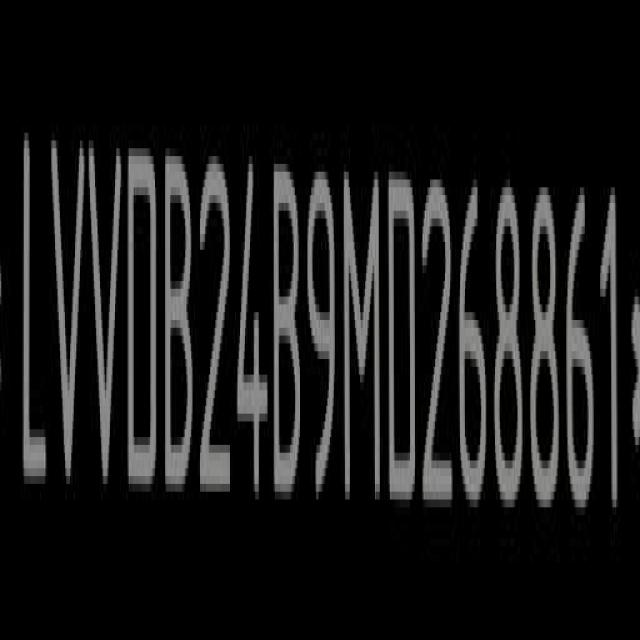1: (602, 181, 622, 518)
2: (200, 157, 234, 505), (422, 177, 455, 511)
4: (235, 157, 268, 503)
6: (456, 179, 487, 513), (567, 187, 596, 516)
8: (494, 179, 526, 510), (529, 185, 560, 511)
9: (306, 166, 338, 503)
B: (163, 148, 196, 492), (272, 164, 304, 506)
D: (128, 140, 160, 491), (388, 171, 419, 504)
L: (19, 129, 49, 494)
M: (341, 162, 384, 503)
V: (48, 133, 84, 495), (89, 136, 125, 496)
